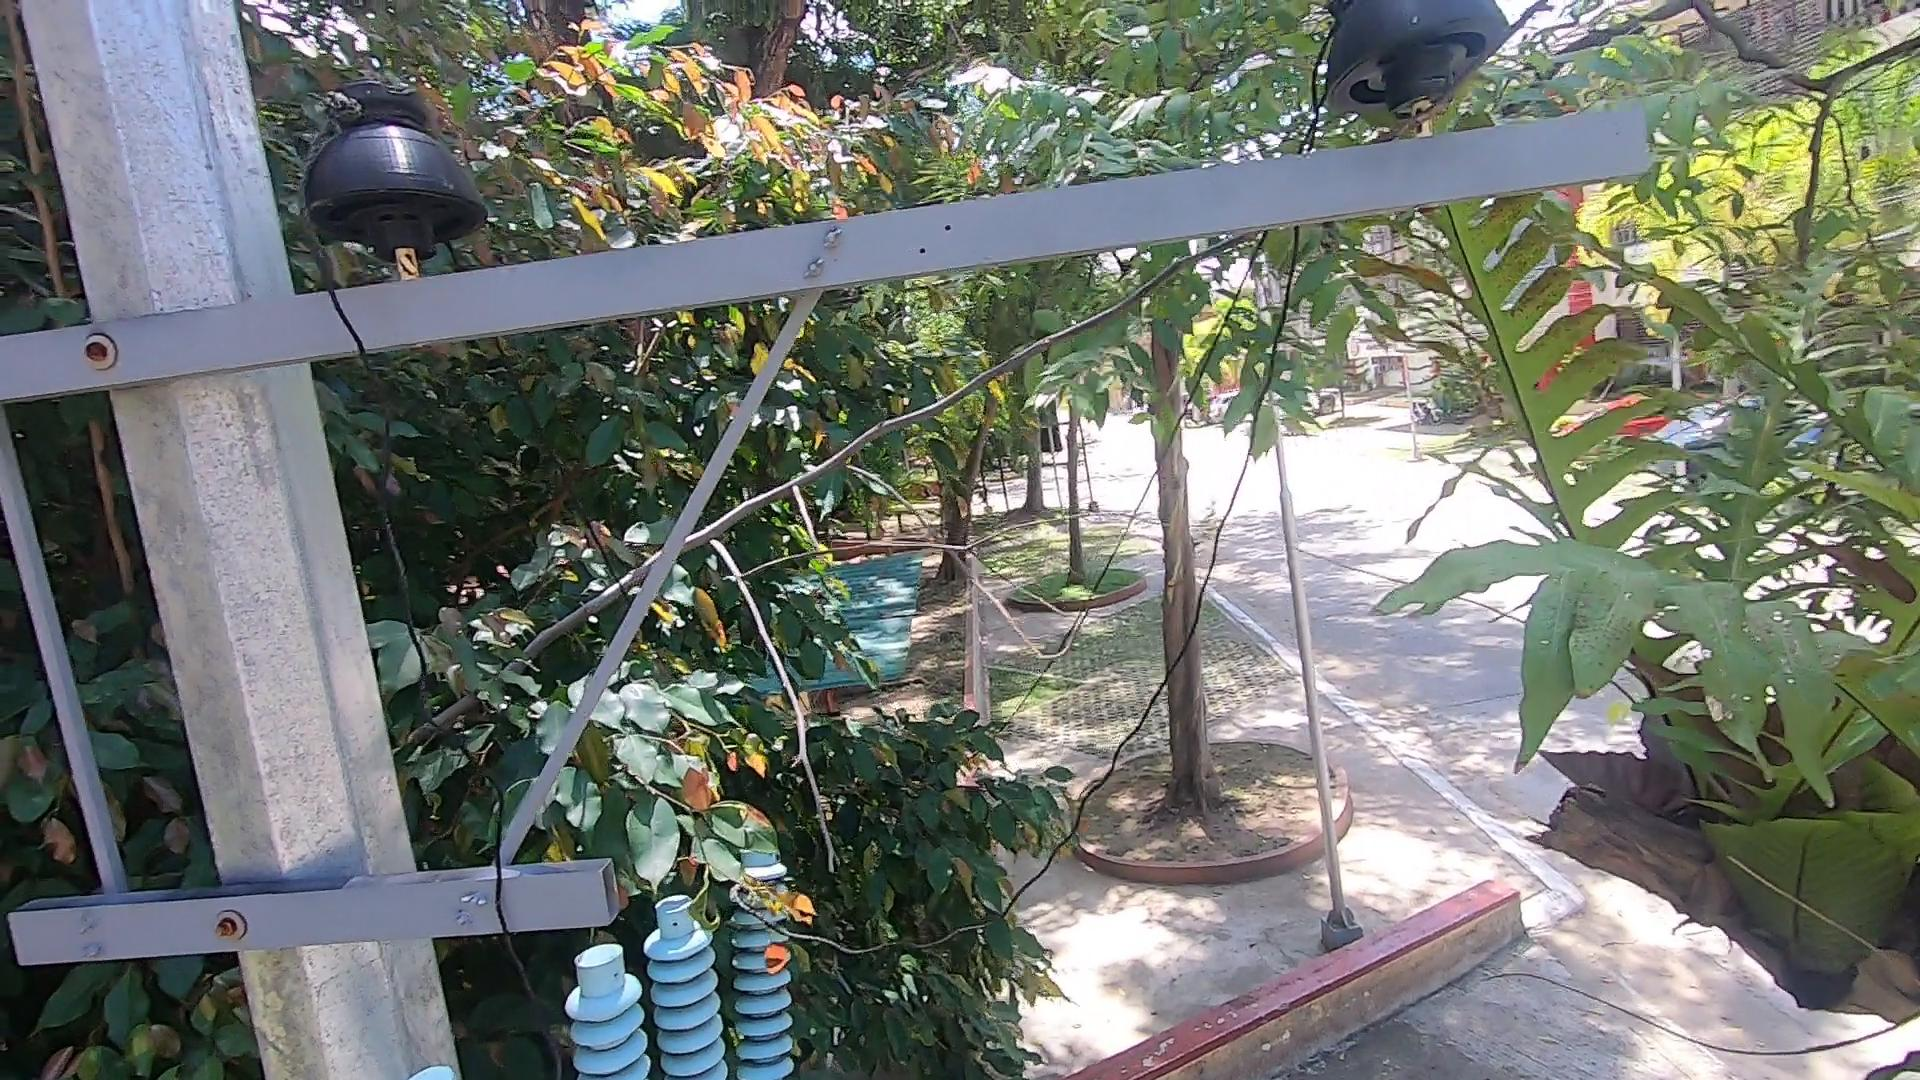tree branch: (369, 1, 1677, 907)
